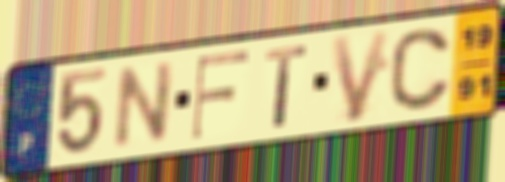5: (56, 67, 112, 158)
C: (387, 26, 454, 114)
F: (188, 47, 253, 143)
N: (110, 57, 179, 153)
T: (262, 41, 310, 129)
V: (327, 25, 394, 126)
